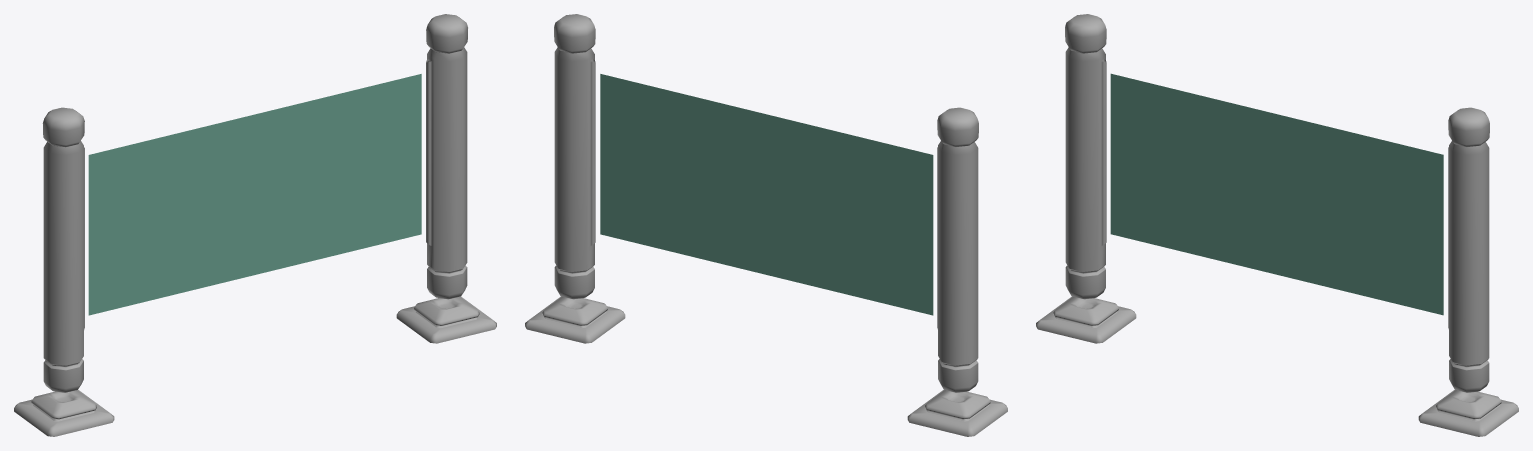
Rendered from barrière2_géométrique_low_v2.fbx.
3 views of the same model, side by side, from view 1: azimuth 30°, elevation 25°; view 2: azimuth 150°, elevation 25°; view 3: azimuth 330°, elevation 25° (orthographic).
Parts seen in each view (by area): view 1: hologramme_geometrique1; view 2: hologramme_geometrique1; view 3: hologramme_geometrique1.
Boxes of the visible parts, x1=… form: hologramme_geometrique1: x1=14, y1=14, x2=496, y2=436; hologramme_geometrique1: x1=525, y1=14, x2=1007, y2=436; hologramme_geometrique1: x1=1036, y1=14, x2=1518, y2=436.
Size of the model in its own units: 729 by 469 by 108.
